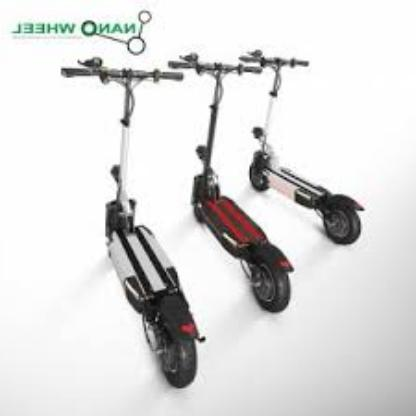bike: (60, 48, 364, 387), (167, 50, 313, 314)
